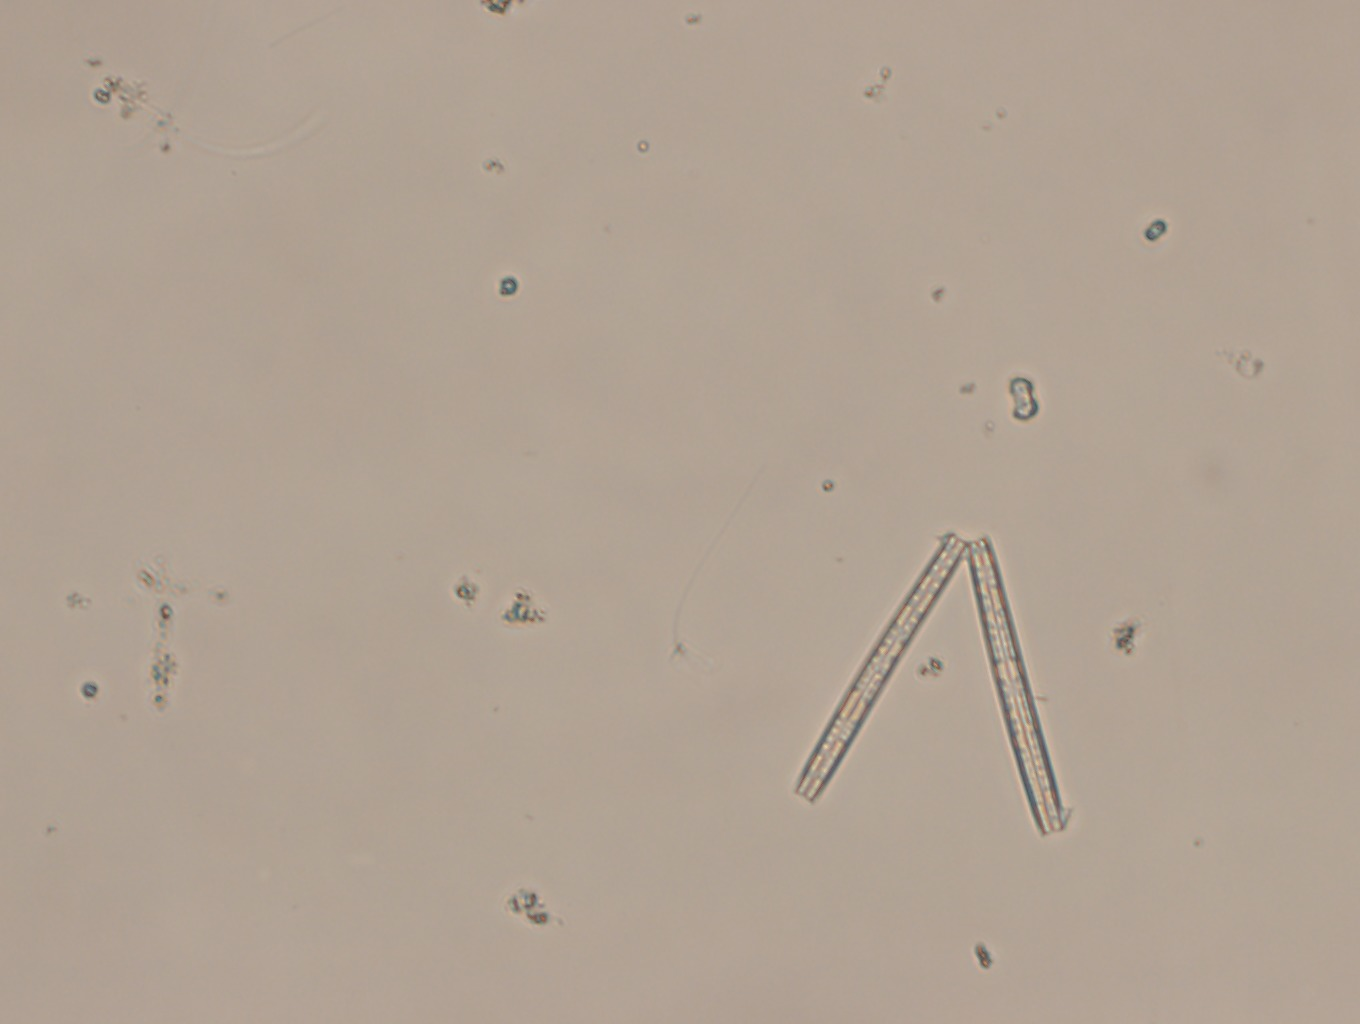thalassionema frauenfeldii: (784, 525, 1078, 843)
